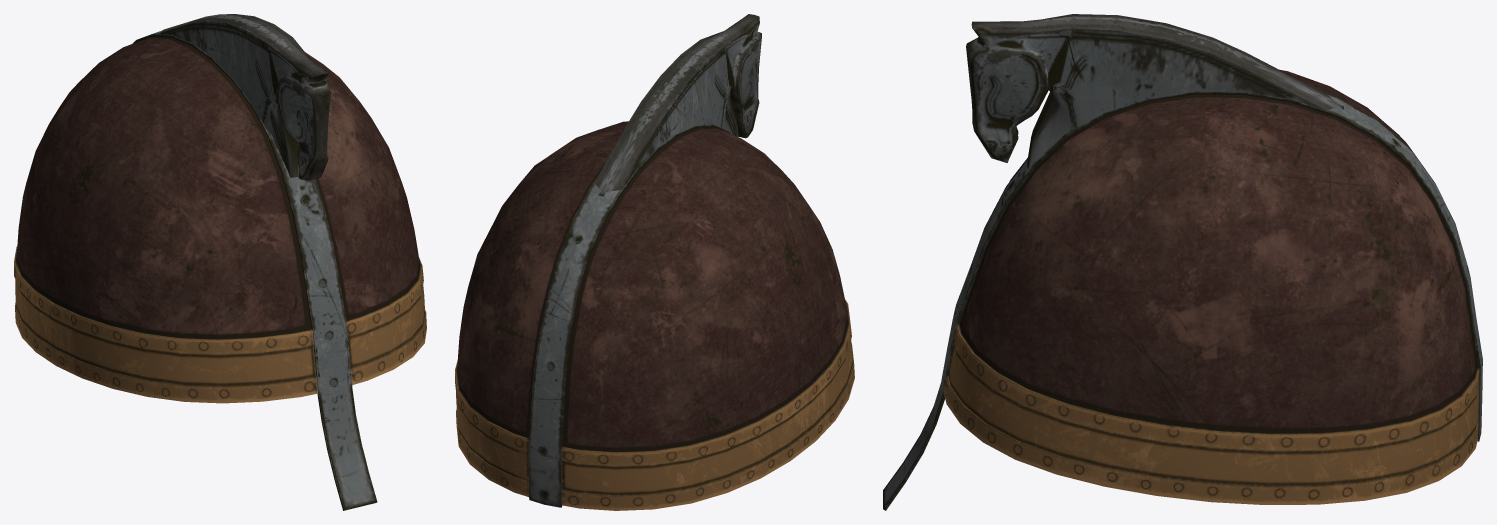
File: cts_rohan_helmet1b.fbx
3 renders of one model, left to right at view 1: azimuth 30°, elevation 25°; view 2: azimuth 150°, elevation 25°; view 3: azimuth 270°, elevation 25°, orthographic. The views are drawn at different scales.
Visible parts, largest first — view 1: cts_rohan_helmet1b; view 2: cts_rohan_helmet1b; view 3: cts_rohan_helmet1b.
Part boxes in pixels (x1,y1,x2,y2): cts_rohan_helmet1b: (14, 14, 426, 510); cts_rohan_helmet1b: (455, 14, 854, 510); cts_rohan_helmet1b: (883, 14, 1482, 510).
Bounding box in the file's own units: 0.1913 × 0.2555 × 0.2269.
1 material, 1 textured.
